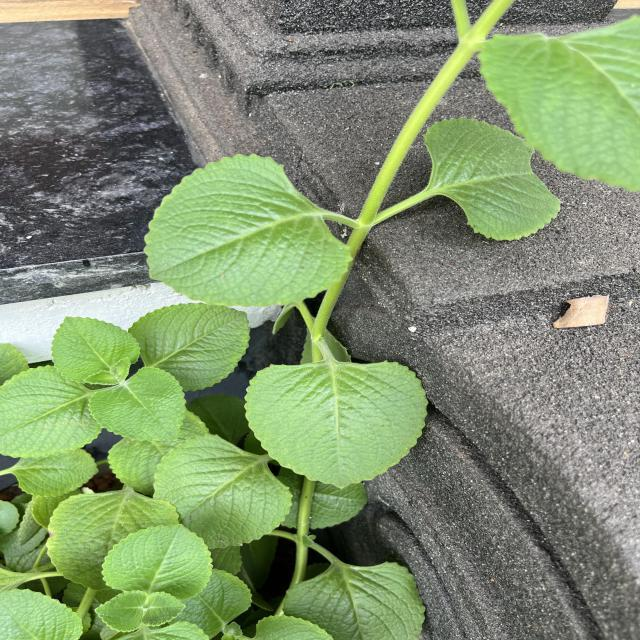Plectranthus barbatus: (142, 153, 354, 309), (242, 360, 429, 490), (422, 117, 562, 240), (151, 432, 294, 550), (45, 490, 180, 591), (282, 561, 428, 640), (127, 302, 250, 392), (0, 364, 104, 459), (100, 522, 214, 600), (87, 367, 187, 442), (50, 316, 142, 384), (12, 447, 100, 498), (94, 590, 148, 632)
